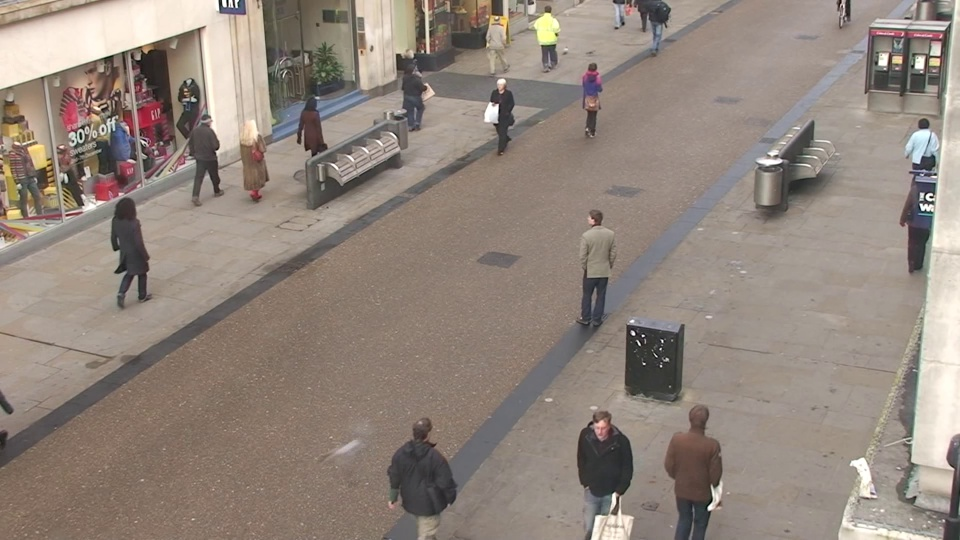pedestrian: (667, 395, 725, 540), (396, 407, 454, 540), (572, 404, 627, 540), (105, 195, 154, 309), (576, 203, 614, 323), (897, 114, 943, 213), (191, 109, 228, 200), (235, 114, 271, 207), (296, 94, 329, 182), (488, 75, 518, 159), (398, 61, 426, 141), (579, 59, 606, 139), (395, 48, 423, 124), (483, 13, 507, 80), (535, 3, 558, 68)
